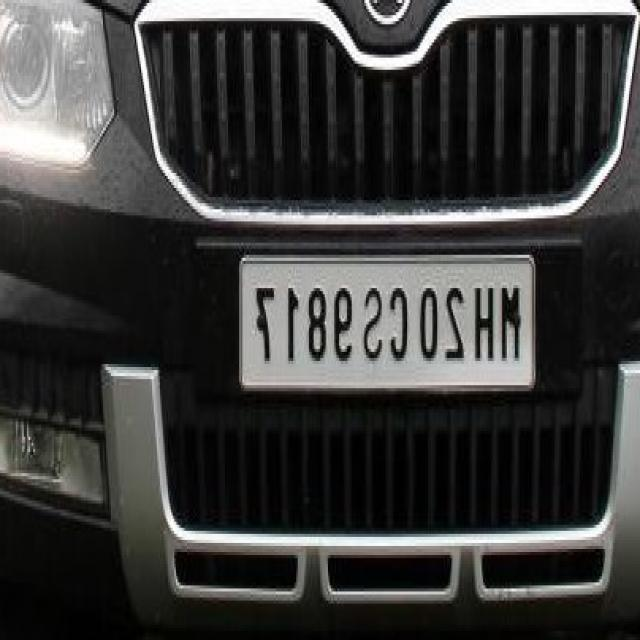license_plate: (234, 244, 541, 404)
